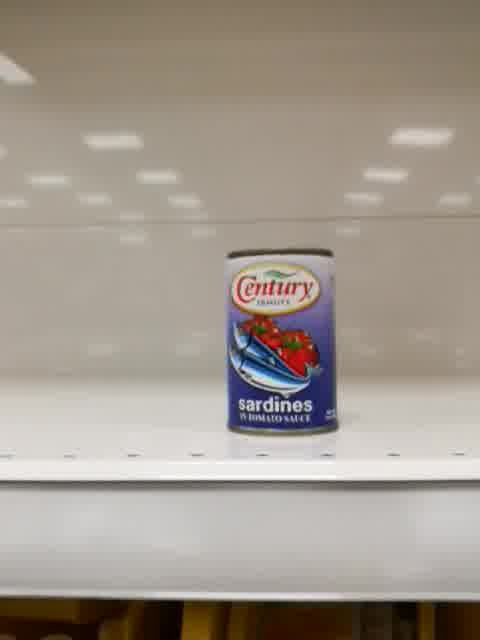sardine: (224, 246, 342, 438)
